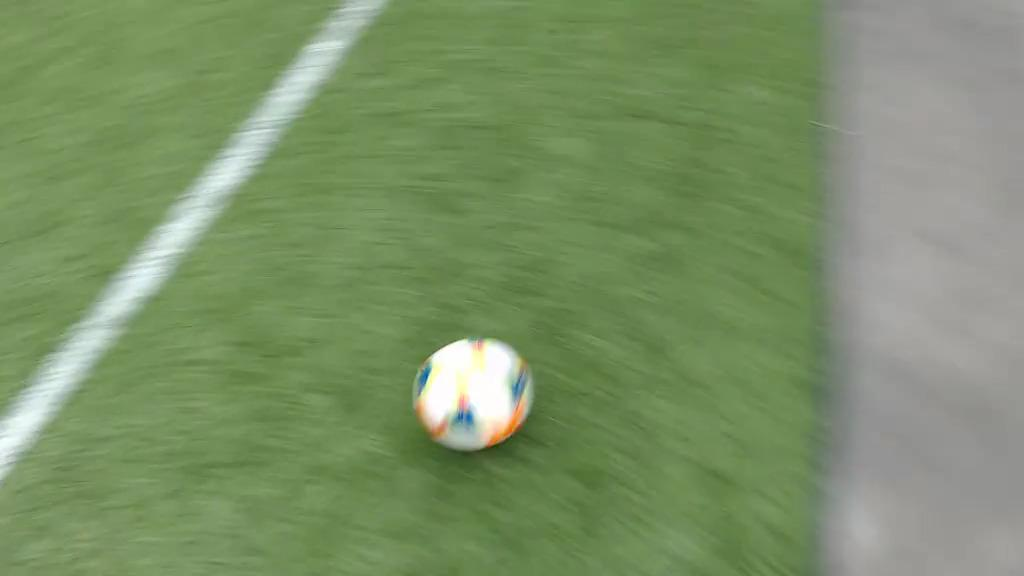ball: (411, 337, 531, 451)
